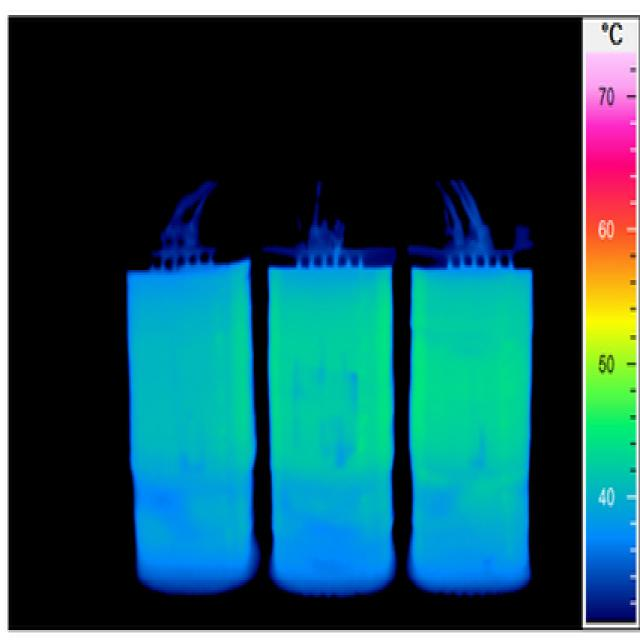Transformer: (128, 180, 532, 602)
